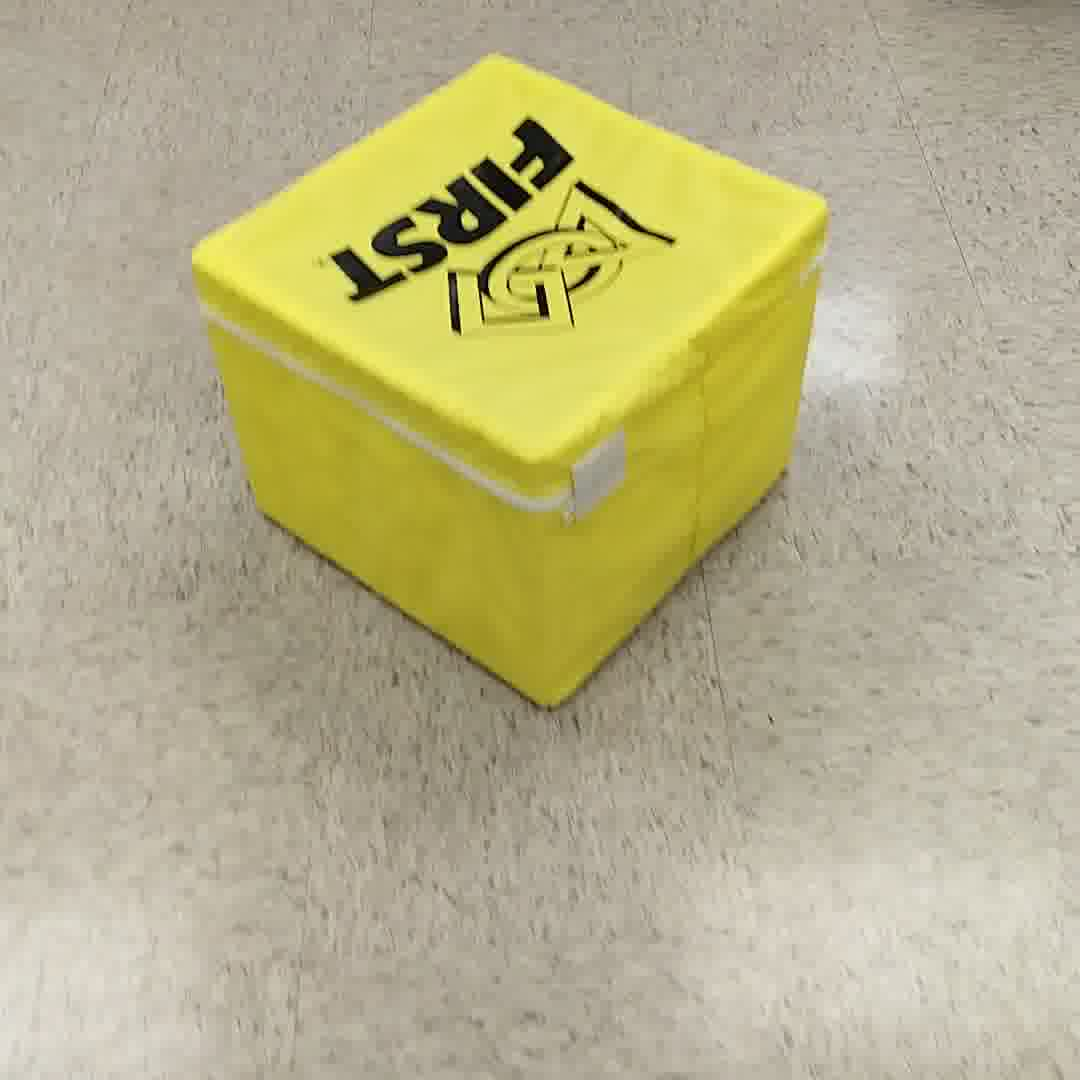box: (180, 61, 833, 721)
